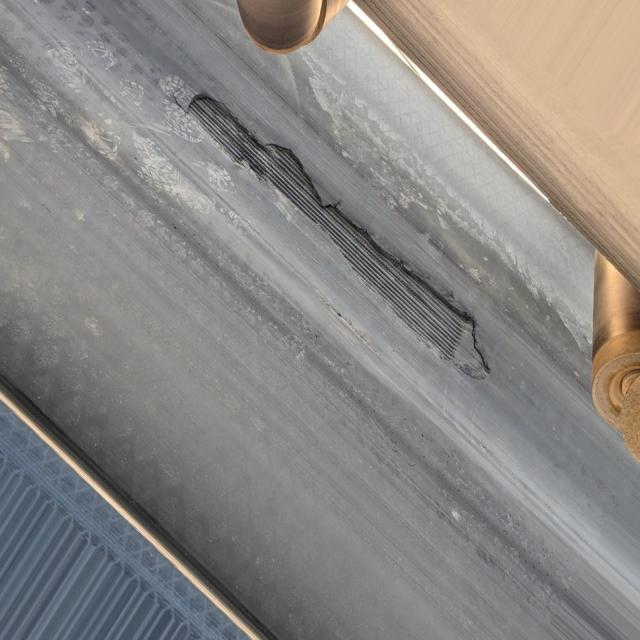Roller: (591, 246, 640, 463), (239, 0, 353, 52)
Tear: (174, 79, 495, 388)
